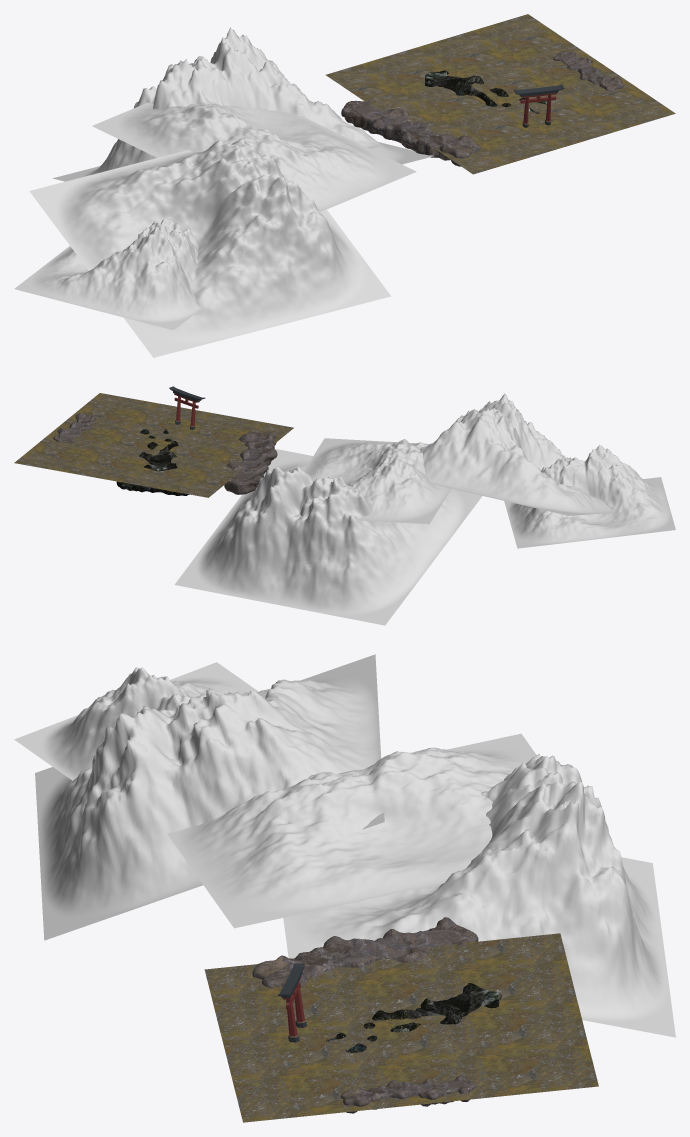
File: CuartoNivel.fbx
3 views of the same model, one above another, from view 1: azimuth 30°, elevation 25°; view 2: azimuth 150°, elevation 25°; view 3: azimuth 270°, elevation 25° (orthographic). The views are drawn at different scales.
Visible parts, largest first — view 1: Landscape.001, Plane, Landscape.003, Landscape.002, Landscape.004, RockWalkway1, RockWalkway1.001, RockWalkway1.003, Cylinder; view 2: Landscape.004, Plane, Landscape.001, Landscape.002, Landscape.003, RockWalkway1, RockWalkway1.001, RockWalkway1.003, Cylinder, RockWalkway1.002; view 3: Plane, Landscape.001, Landscape.004, Landscape.003, Landscape.002, RockWalkway1, RockWalkway1.001, RockWalkway1.003, Cylinder.
Part boxes in pixels (box(x1,y1,x2,y2)): Landscape.001: box(29, 129, 391, 357); Plane: box(326, 14, 675, 174); Landscape.003: box(92, 102, 416, 212); Landscape.002: box(14, 218, 201, 330); Landscape.004: box(52, 27, 434, 181); RockWalkway1: box(341, 100, 480, 166); RockWalkway1.001: box(425, 70, 547, 113); RockWalkway1.003: box(553, 51, 623, 91); Cylinder: box(513, 84, 564, 127); Landscape.004: box(174, 449, 482, 625); Plane: box(14, 393, 293, 497); Landscape.001: box(362, 393, 615, 515); Landscape.002: box(504, 444, 675, 548); Landscape.003: box(293, 438, 451, 524); RockWalkway1: box(224, 431, 277, 494); RockWalkway1.001: box(139, 429, 178, 471); RockWalkway1.003: box(53, 413, 97, 442); Cylinder: box(169, 386, 205, 429); RockWalkway1.002: box(116, 481, 189, 495); Plane: box(204, 933, 598, 1122); Landscape.001: box(35, 654, 384, 940); Landscape.004: box(283, 754, 675, 1037); Landscape.003: box(167, 733, 536, 928); Landscape.002: box(14, 662, 258, 780); RockWalkway1: box(252, 917, 478, 987); RockWalkway1.001: box(325, 983, 501, 1052); RockWalkway1.003: box(340, 1075, 476, 1113); Cylinder: box(278, 963, 306, 1042).
Bounding box in the file's own units: 13765 × 2754 × 8237.
